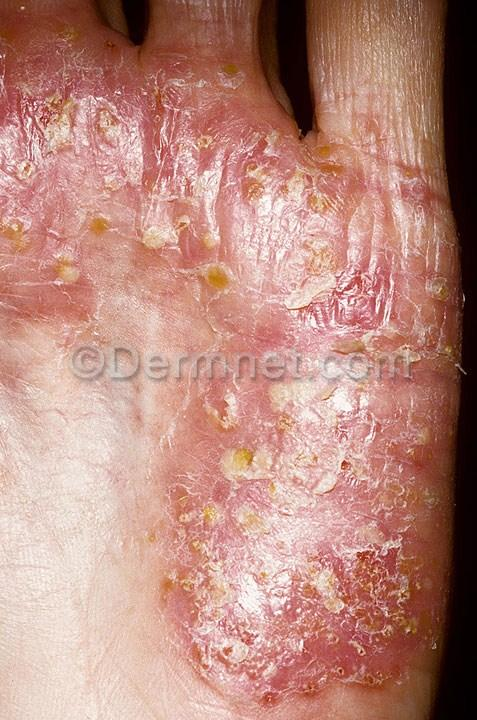Eczema: (160, 178, 466, 455), (185, 461, 464, 720), (0, 14, 155, 304), (143, 7, 305, 185)
